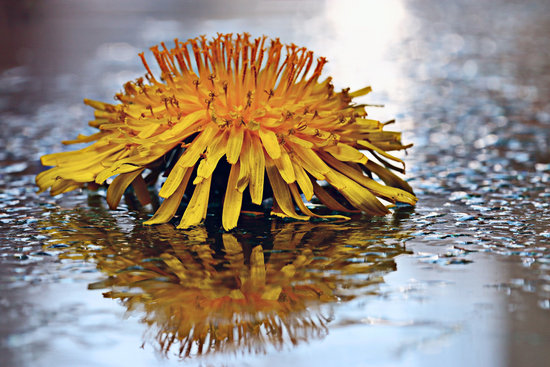dandelion: (95, 36, 359, 213)
